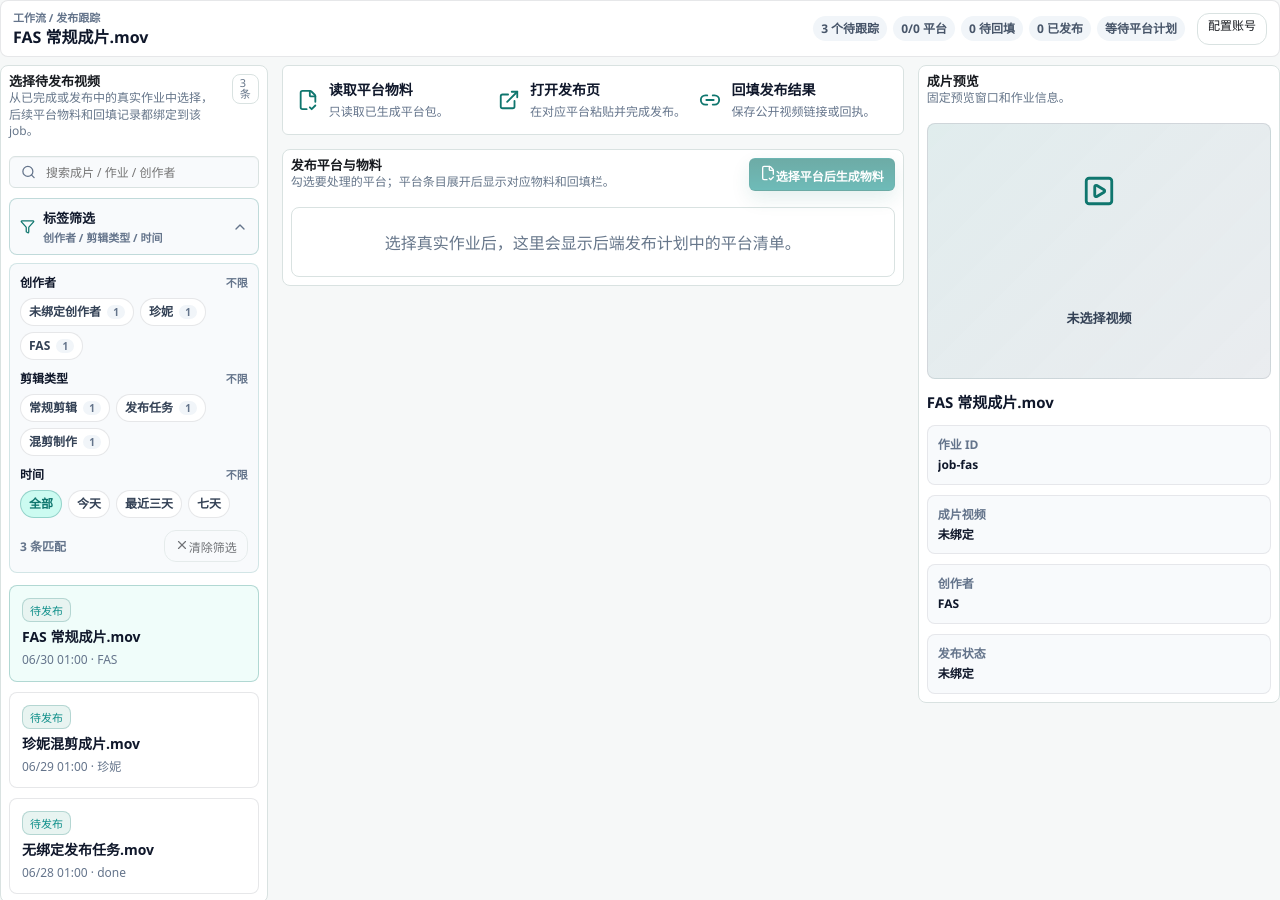
Test: PublicationTrackingPage › filters the video list by expandable creator and clip-type tags
This screenshot has width=1280, height=900.
Expected: the text "FAS 常规成片.mov" below "条匹配" is shown, [22, 627, 140, 646]
Expected: the text "珍妮混剪成片.mov" is shown, [22, 734, 140, 752]
Click the button "FAS 1".
click(52, 346)  # box [20, 332, 83, 360]
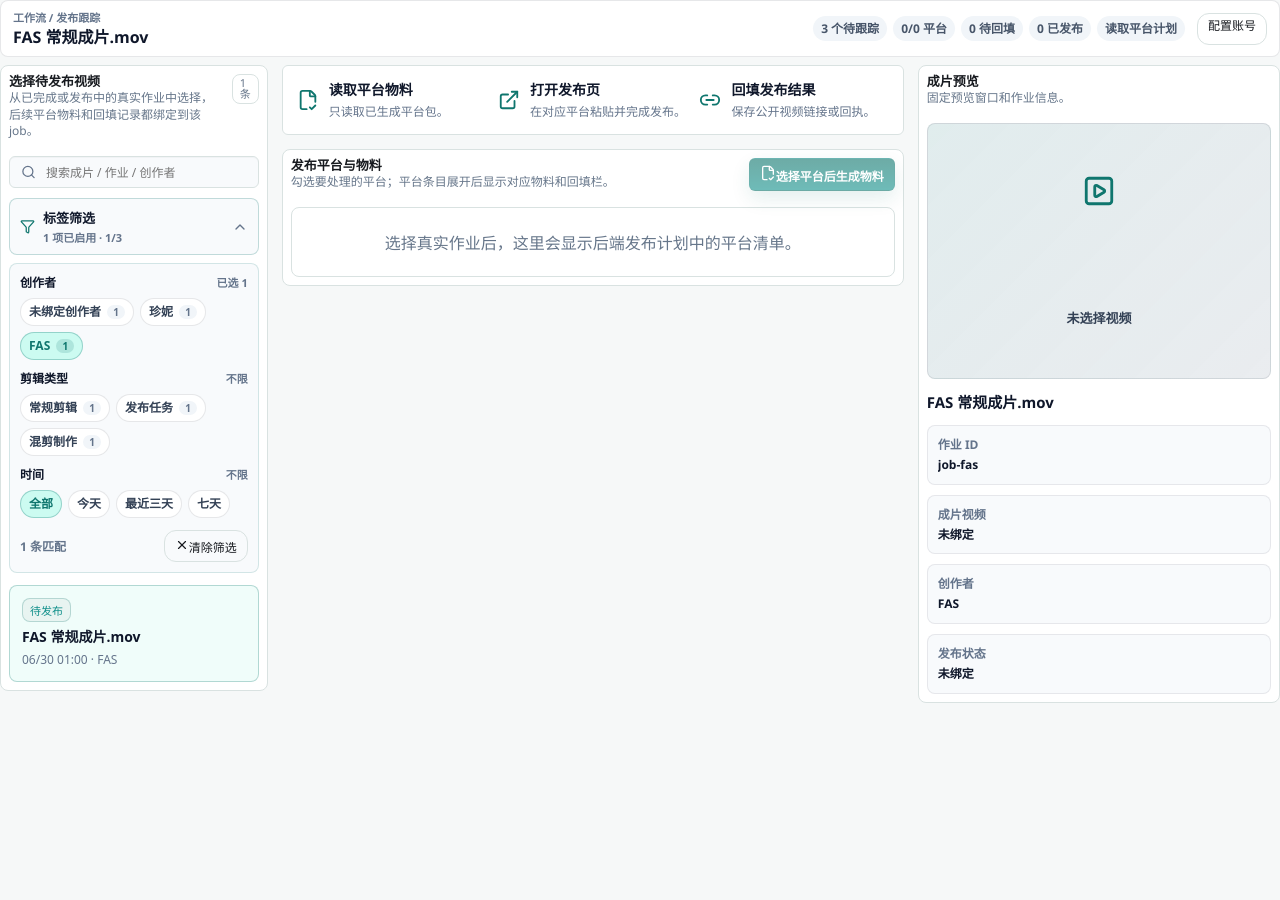
Expected: the text "FAS 常规成片.mov" below "条匹配" is shown, [22, 627, 140, 646]
Result: the button "珍妮混剪成片.mov" is gone
Result: the button "无绑定发布任务.mov" is gone
Click the button "清除筛选".
click(206, 546)  # box [164, 530, 248, 562]
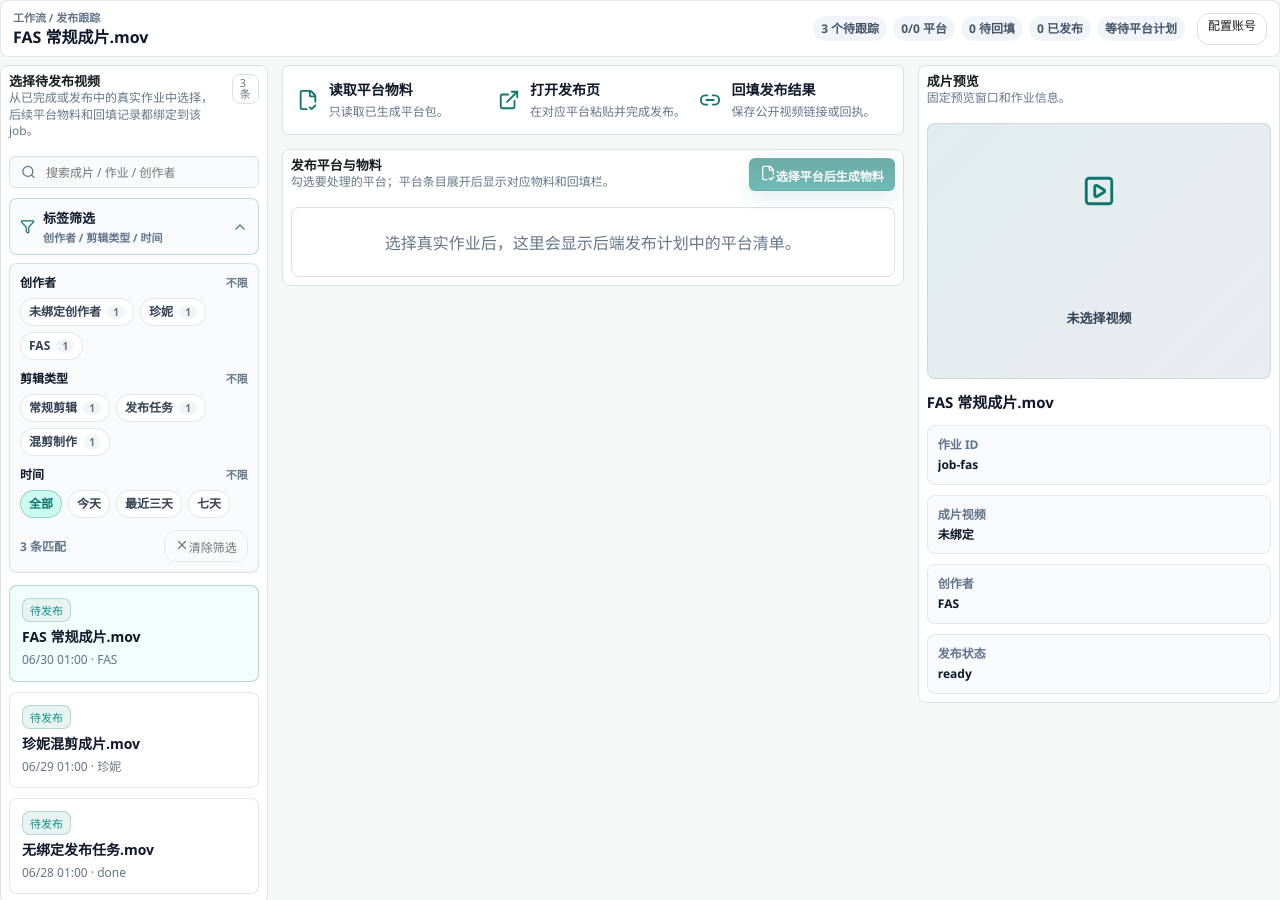
Click the button "混剪制作 1".
click(65, 442)  # box [20, 428, 110, 456]
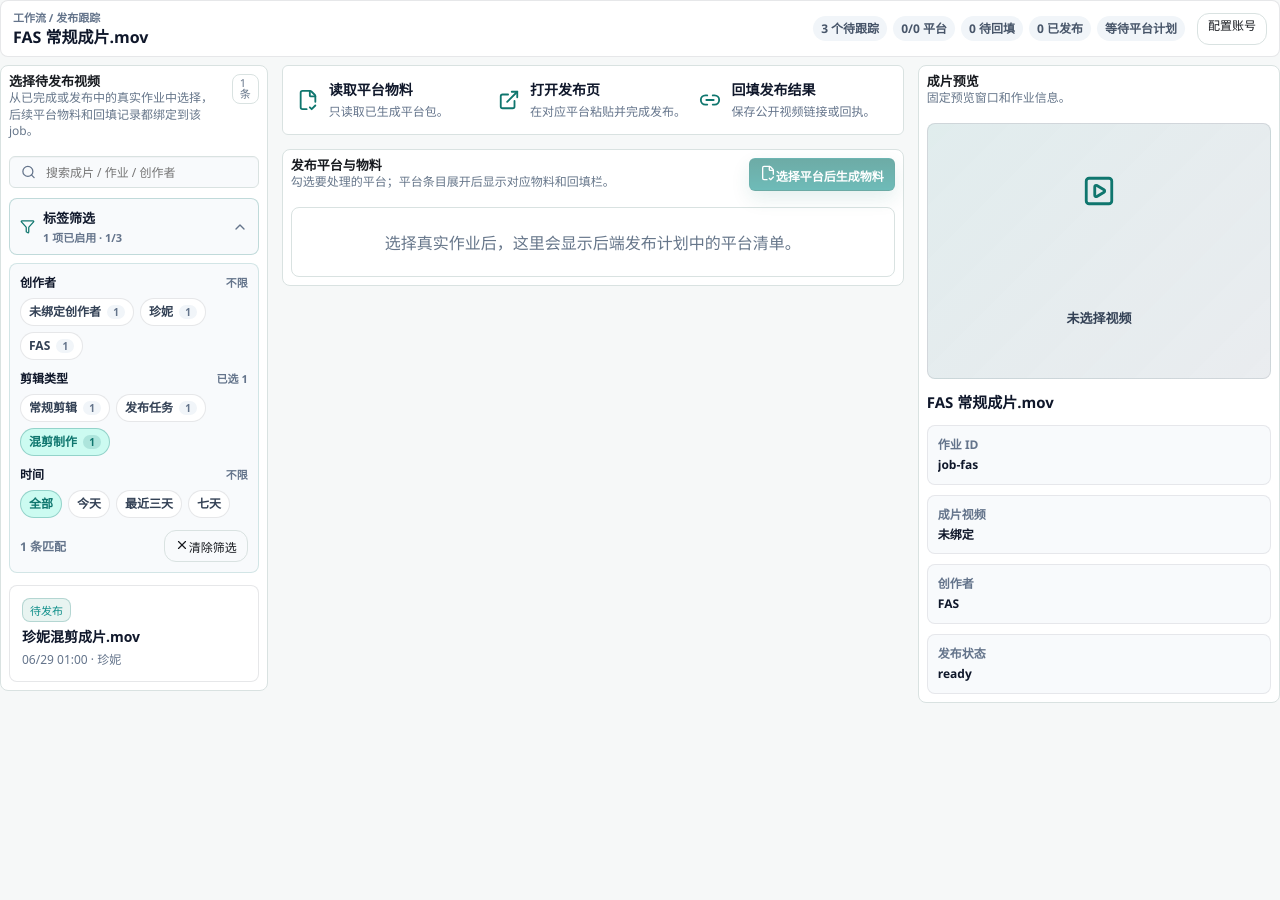
Result: the text "珍妮混剪成片.mov" is shown at [22, 627, 140, 646]
Result: the button "无绑定发布任务.mov" is gone
